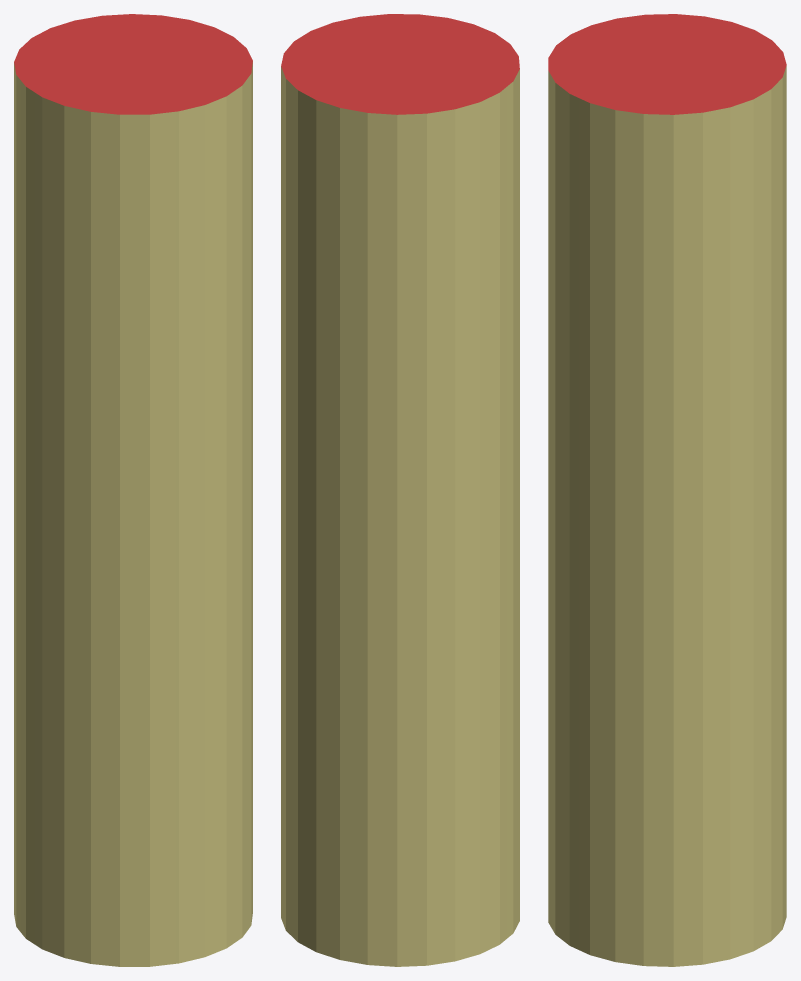
3 renders of one model, left to right at view 1: azimuth 30°, elevation 25°; view 2: azimuth 150°, elevation 25°; view 3: azimuth 270°, elevation 25°, orthographic.
Bounding box in the file's own units: 3.41 × 3.41 × 13.43.
